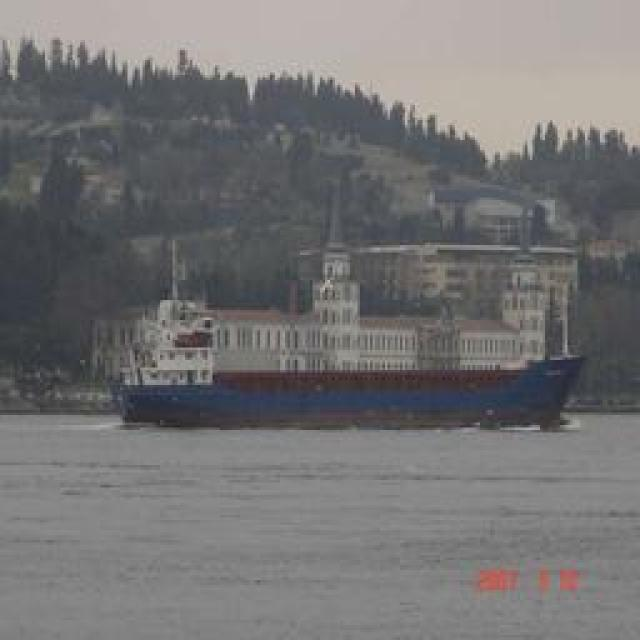CIV_Ship: (108, 298, 590, 422)
